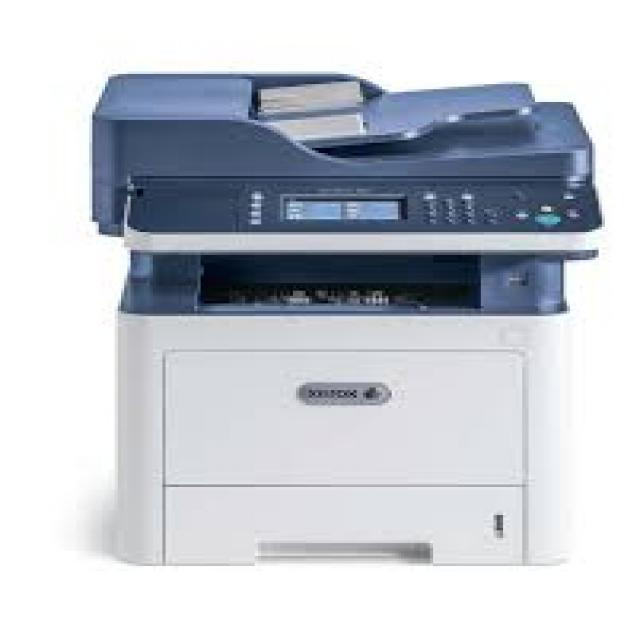printer: (81, 54, 614, 588)
